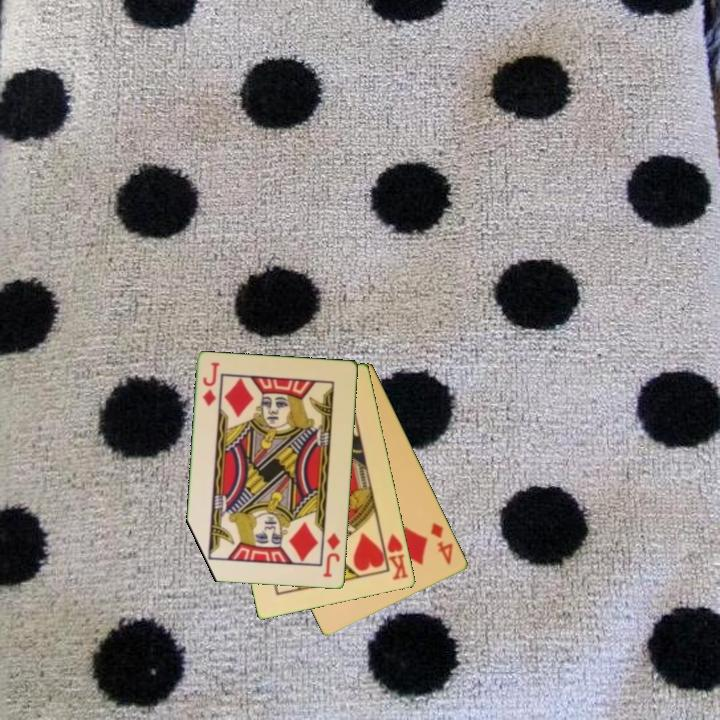4d: (427, 519, 456, 567)
Jd: (320, 529, 344, 580), (199, 359, 223, 409)
Kh: (378, 529, 412, 583)
